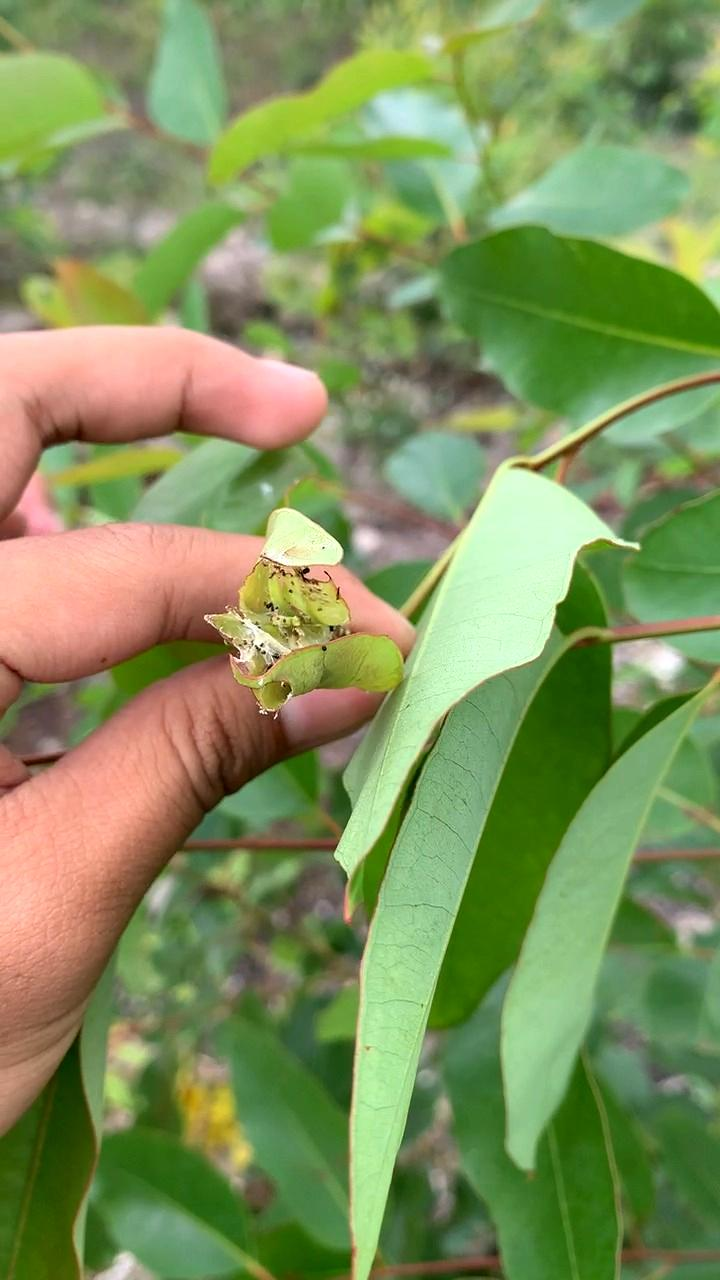Leaf Roller - Leaf: (226, 503, 409, 723)
